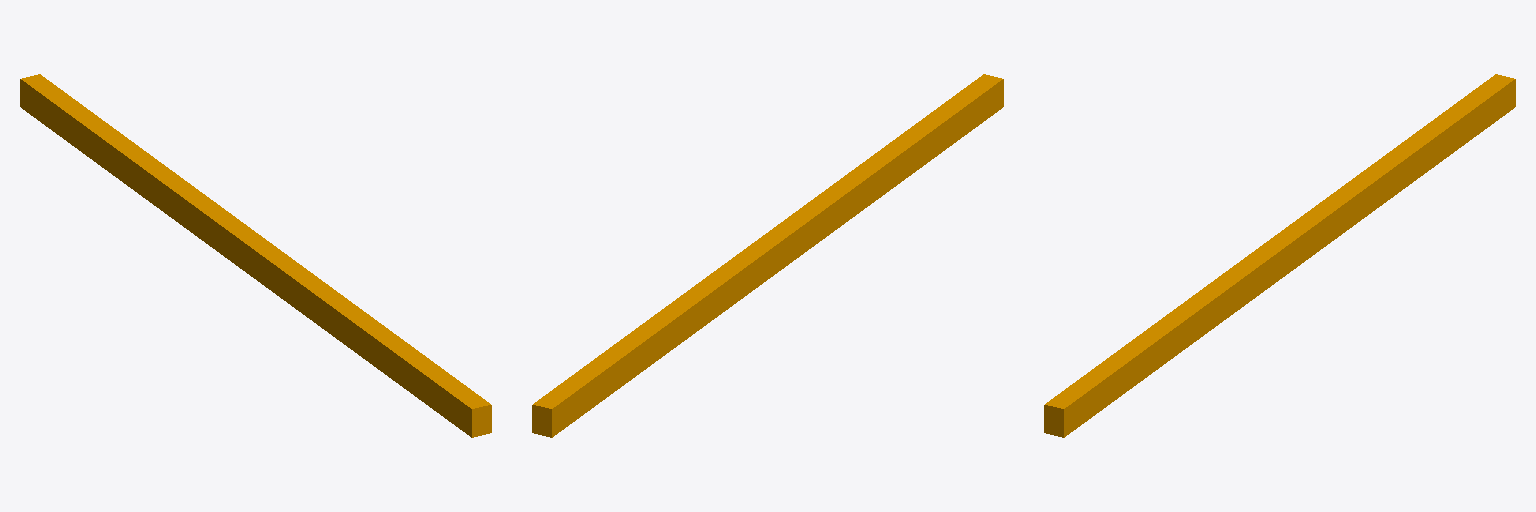
The robot description file, URDF, robot "myfirst":
<?xml version="1.0"?>
<robot name="myfirst">
  <link name="base_link">
      <visual>
        <geometry>
          <box size="0.5 20 0.7"/>
        </geometry>
      </visual>
      <collision>
        <geometry>
          <box size="0.5 20 0.7"/>
        </geometry>
      </collision>
      <inertial>
        <mass value="1000"/>
        <inertia ixx="1.0" ixy="0.0" ixz="0.0" iyy="1.0" iyz="0.0" izz="1.0"/>
      </inertial>
    </link>
</robot>

--- Render facts (derived) ---
3 views of the same robot in one strip: view 1: azimuth 30°, elevation 25°; view 2: azimuth 150°, elevation 25°; view 3: azimuth 330°, elevation 25° (orthographic).
Robot: myfirst — 1 links, 0 joints (none); root link base_link; default pose: all joints at 0.
Visible links, largest first — view 1: base_link; view 2: base_link; view 3: base_link.
Boxes of the visible links, x1,y1,x2,y2 form: base_link: [20, 74, 491, 437]; base_link: [532, 74, 1003, 437]; base_link: [1044, 74, 1515, 437].
Size in the robot's own frame: 0.5 by 20 by 0.7 metres.
Geometry: primitives only (box / cylinder / sphere), no mesh files.
